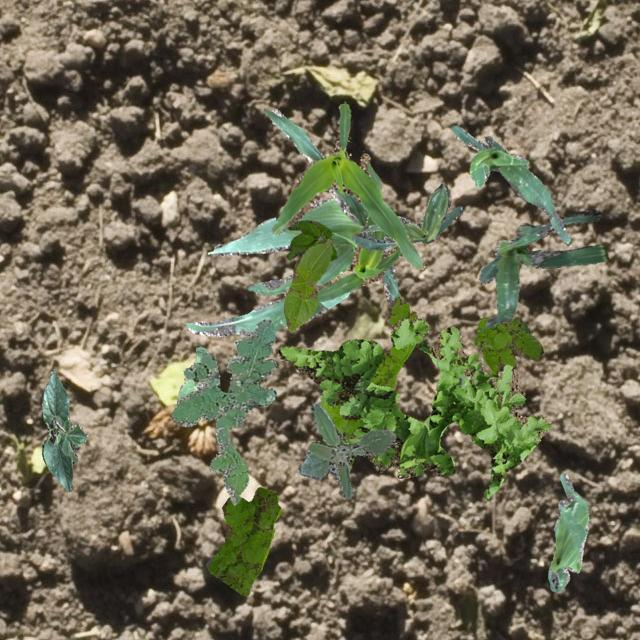crop: (184, 107, 398, 336), (270, 100, 424, 270), (478, 208, 608, 328), (451, 125, 568, 242), (316, 152, 402, 300), (352, 182, 462, 250), (40, 368, 86, 491), (546, 472, 588, 590), (282, 238, 332, 332), (176, 343, 210, 402)
weed: (276, 318, 550, 500), (170, 318, 276, 504), (319, 296, 416, 444), (296, 402, 396, 498), (206, 486, 280, 594), (472, 316, 542, 374), (286, 220, 336, 260)
